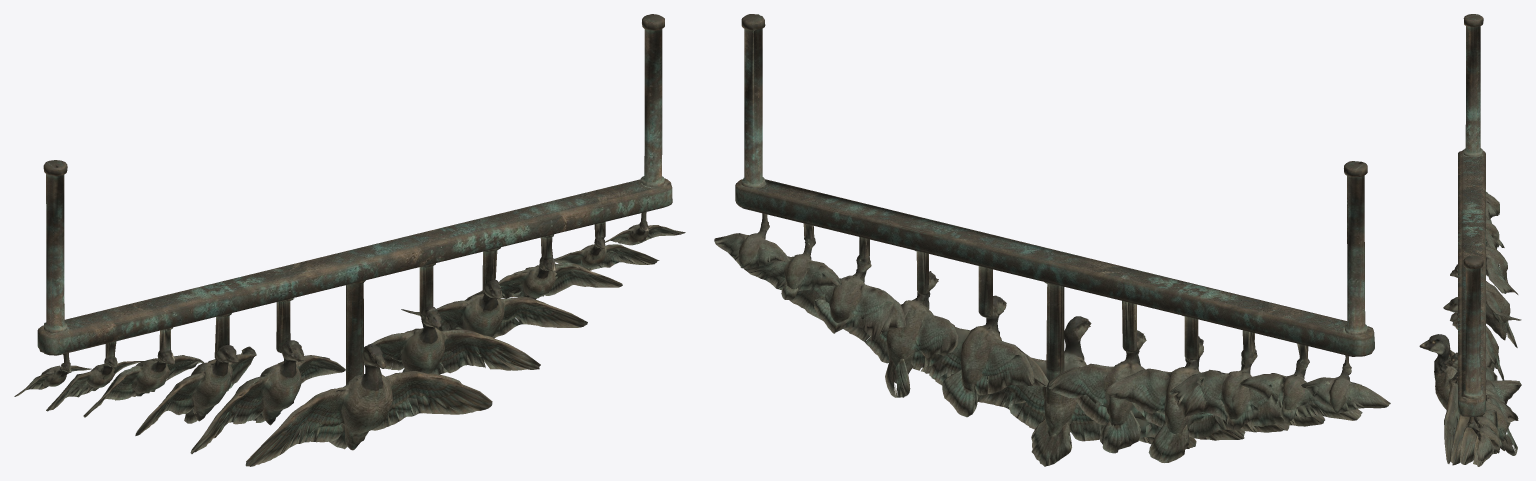
File: skyways-d-lm-geese.glb
3 views of the same model, side by side, from view 1: azimuth 30°, elevation 25°; view 2: azimuth 150°, elevation 25°; view 3: azimuth 270°, elevation 25° (orthographic). The views are drawn at different scales.
Parts seen in each view (by area): view 1: skyways-d-lm-geese; view 2: skyways-d-lm-geese; view 3: skyways-d-lm-geese.
Boxes of the visible parts, box(x1,y1,x2,y2) form: skyways-d-lm-geese: box(14, 14, 685, 466); skyways-d-lm-geese: box(714, 14, 1390, 466); skyways-d-lm-geese: box(1419, 14, 1521, 466).
Bounding box in the file's own units: 7 × 3.65 × 1.11.
Materials: 1 (1 with a texture image).
